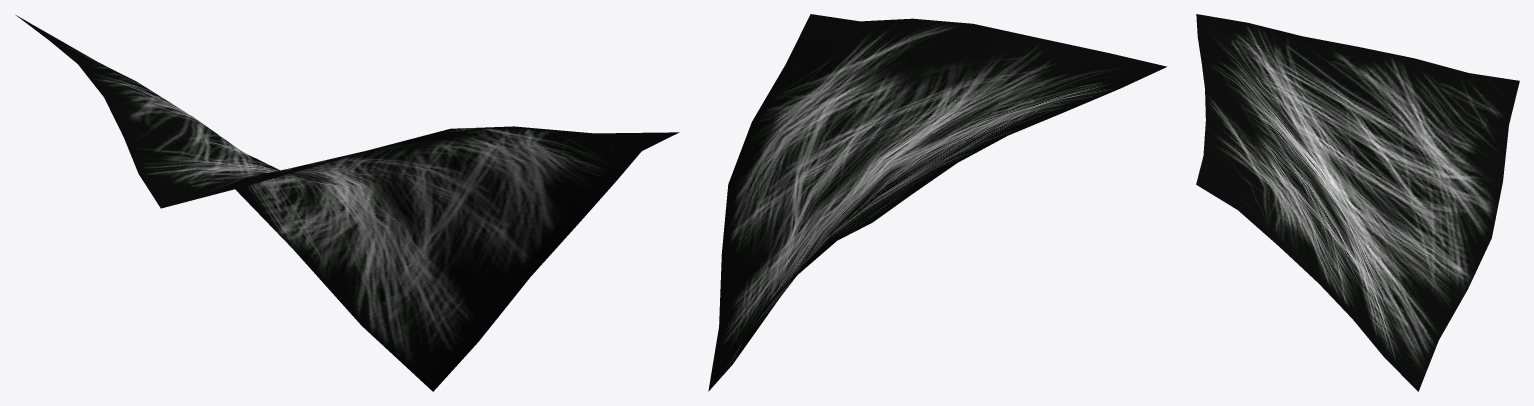
The model's file is SWORDLIGHT20_PS-AREA01_CORNERWEB01.fbx.
3 renders of one model, left to right at view 1: azimuth 30°, elevation 25°; view 2: azimuth 150°, elevation 25°; view 3: azimuth 270°, elevation 25°, orthographic. The views are drawn at different scales.
Visible parts, largest first — view 1: SWORDLIGHT20_PS-AREA01_CORNERWEB01; view 2: SWORDLIGHT20_PS-AREA01_CORNERWEB01; view 3: SWORDLIGHT20_PS-AREA01_CORNERWEB01.
Boxes of the visible parts, <box> form: SWORDLIGHT20_PS-AREA01_CORNERWEB01: <box>16,15,679,391</box>; SWORDLIGHT20_PS-AREA01_CORNERWEB01: <box>708,14,1166,391</box>; SWORDLIGHT20_PS-AREA01_CORNERWEB01: <box>1196,14,1519,391</box>.
Size of the model in its own units: 80500 by 64371 by 75697.
1 material, 1 textured.
